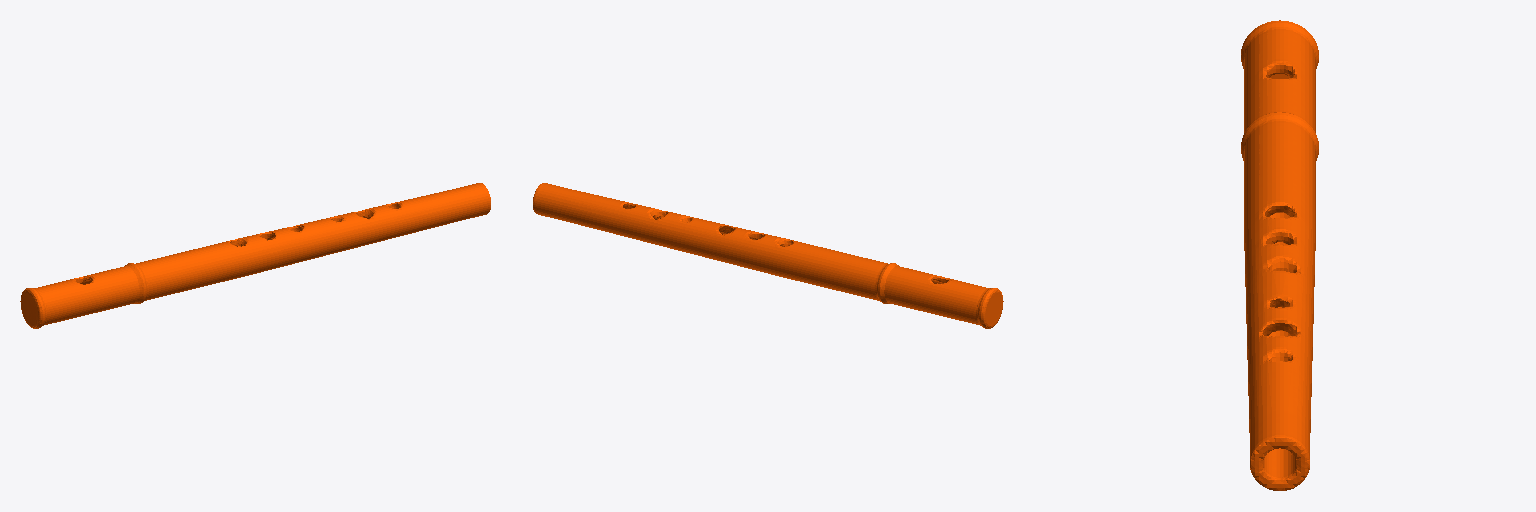
robot.urdf — flute:
<?xml version="1.0" ?>
<robot name="flute">
   <material name="obj_color">
      <color rgba="1.0 0.423529411765 0.0392156862745 1.0"/>
   </material>
   <link name="top">
      <inertial>
         <origin rpy="1.605573399977763e-06 0.0001666307442647962 0.0001666722007831879" xyz="-0.004234500700104821 -6.017565399780763e-07 -0.0001757959759589463"/>
         <mass value="0.04384559064699487"/>
         <inertia ixx="1.605624024049592e-06" ixy="2.887839862187808e-09" ixz="9.136740151992219e-08" iyy="0.0001666307538906684" iyz="6.316914702045484e-10" izz="0.0001666721405332439"/>
      </inertial>
      <visual>
         <origin rpy="0 0 0" xyz="0 0 0"/>
         <geometry>
            <mesh filename="top_watertight_tiny.stl" scale="1 1 1"/>
         </geometry>
         <material name="obj_color"/>
      </visual>
      <collision>
         <origin rpy="0 0 0" xyz="0 0 0"/>
         <geometry>
            <mesh filename="top_watertight_tiny.obj" scale="1 1 1"/>
         </geometry>
      </collision>
   </link>
   <link name="bottom">
      <inertial>
         <origin rpy="1.633333333194242e-08 1.633333333194243e-08 1.633333333357667e-08" xyz="0.3464080000000008 0.3464080000000008 0.3464080000000008"/>
         <mass value="0.0009800000000000017"/>
         <inertia ixx="1.633333333248717e-08" ixy="5.447480642029219e-19" ixz="5.447480642029219e-19" iyy="1.633333333248717e-08" iyz="5.447480642029219e-19" izz="1.633333333248717e-08"/>
      </inertial>
      <visual>
         <origin rpy="0 0 0" xyz="0 0 0"/>
         <geometry>
            <mesh filename="bottom_watertight_tiny.stl" scale="1 1 1"/>
         </geometry>
         <material name="obj_color"/>
      </visual>
   </link>
   <link name="world"/>
   <joint name="world_to_base" type="fixed">
      <origin xyz="0 0 0"/>
      <axis xyz="0 0 0"/>
      <parent link="world"/>
      <child link="bottom"/>
   </joint>
   <joint name="rotation" type="revolute">
      <origin xyz="0 0 0"/>
      <axis xyz="0 0 -1"/>
      <parent link="bottom"/>
      <child link="top"/>
      <dynamics damping="1.0" friction="1.0"/>
      <limit effort="0.1" velocity="0.1" lower="0" upper="0.001"/>
   </joint>
</robot>

--- Facts derived from the render (not from the file) ---
Views: 3 orthographic renders of the robot side by side, from view 1: azimuth 30°, elevation 25°; view 2: azimuth 150°, elevation 25°; view 3: azimuth 270°, elevation 25°.
Model flute with 3 links and 2 joints (1 revolute, 1 fixed), rooted at world, posed all joints at 0.
Visible links, largest first — view 1: top; view 2: top; view 3: top.
Link boxes in pixels (x1,y1,x2,y2): top: (20, 183, 490, 328); top: (533, 183, 1003, 328); top: (1241, 20, 1318, 490).
Size in the robot's own frame: 0.21 by 0.0169 by 0.0169 metres.
1 mesh visuals loaded from 2 distinct referenced files (1 binary STL); not drawn: 1 (reference not matched to a file when rendering).
